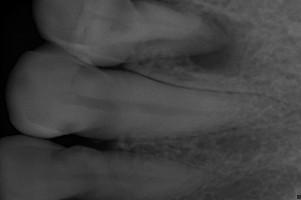Furcation Involvement: (190, 11, 255, 77)
